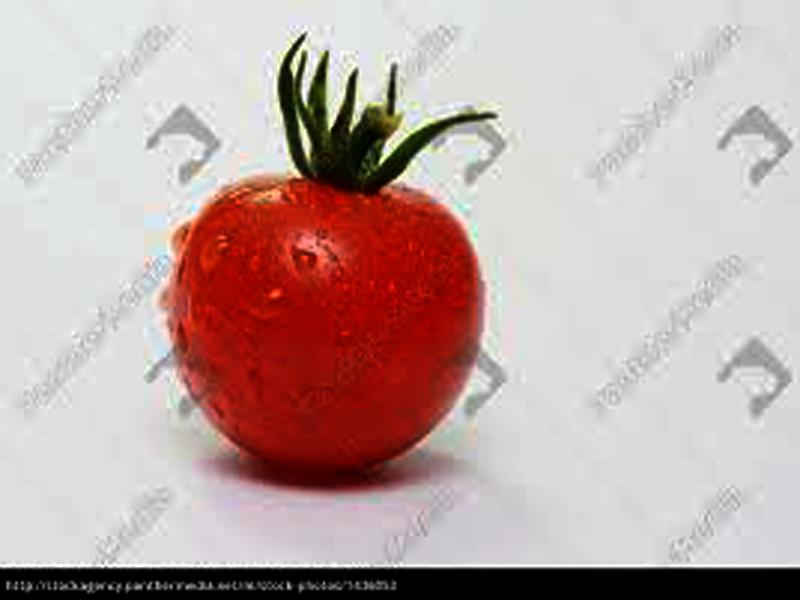Tomato: (170, 182, 484, 472)
